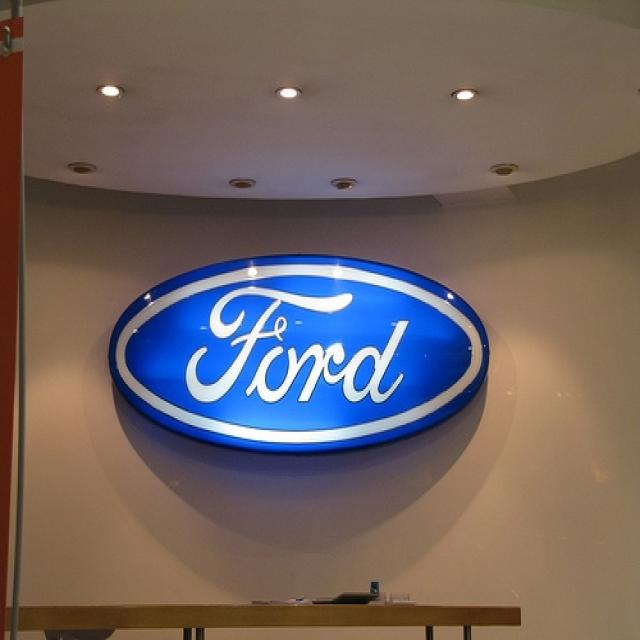ford: (106, 247, 494, 467)
